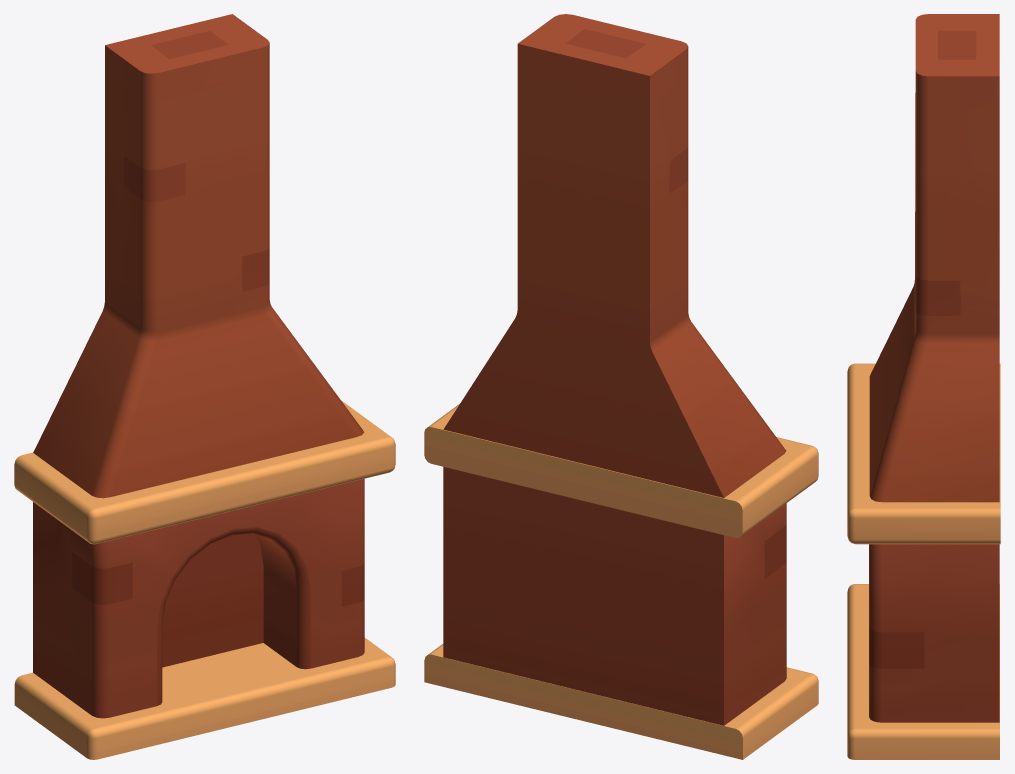
The model's file is Fireplace_13.glb.
3 renders of one model, left to right at view 1: azimuth 30°, elevation 25°; view 2: azimuth 150°, elevation 25°; view 3: azimuth 270°, elevation 25°, orthographic. The views are drawn at different scales.
Visible parts, largest first — view 1: Fireplace_13; view 2: Fireplace_13; view 3: Fireplace_13.
Boxes of the visible parts, x1,y1,x2,y2 form: Fireplace_13: (14, 14, 395, 759); Fireplace_13: (424, 14, 818, 759); Fireplace_13: (847, 14, 1000, 759).
Size of the model in its own units: 1.36 by 2.7 by 0.5856.
1 material, 1 textured.
